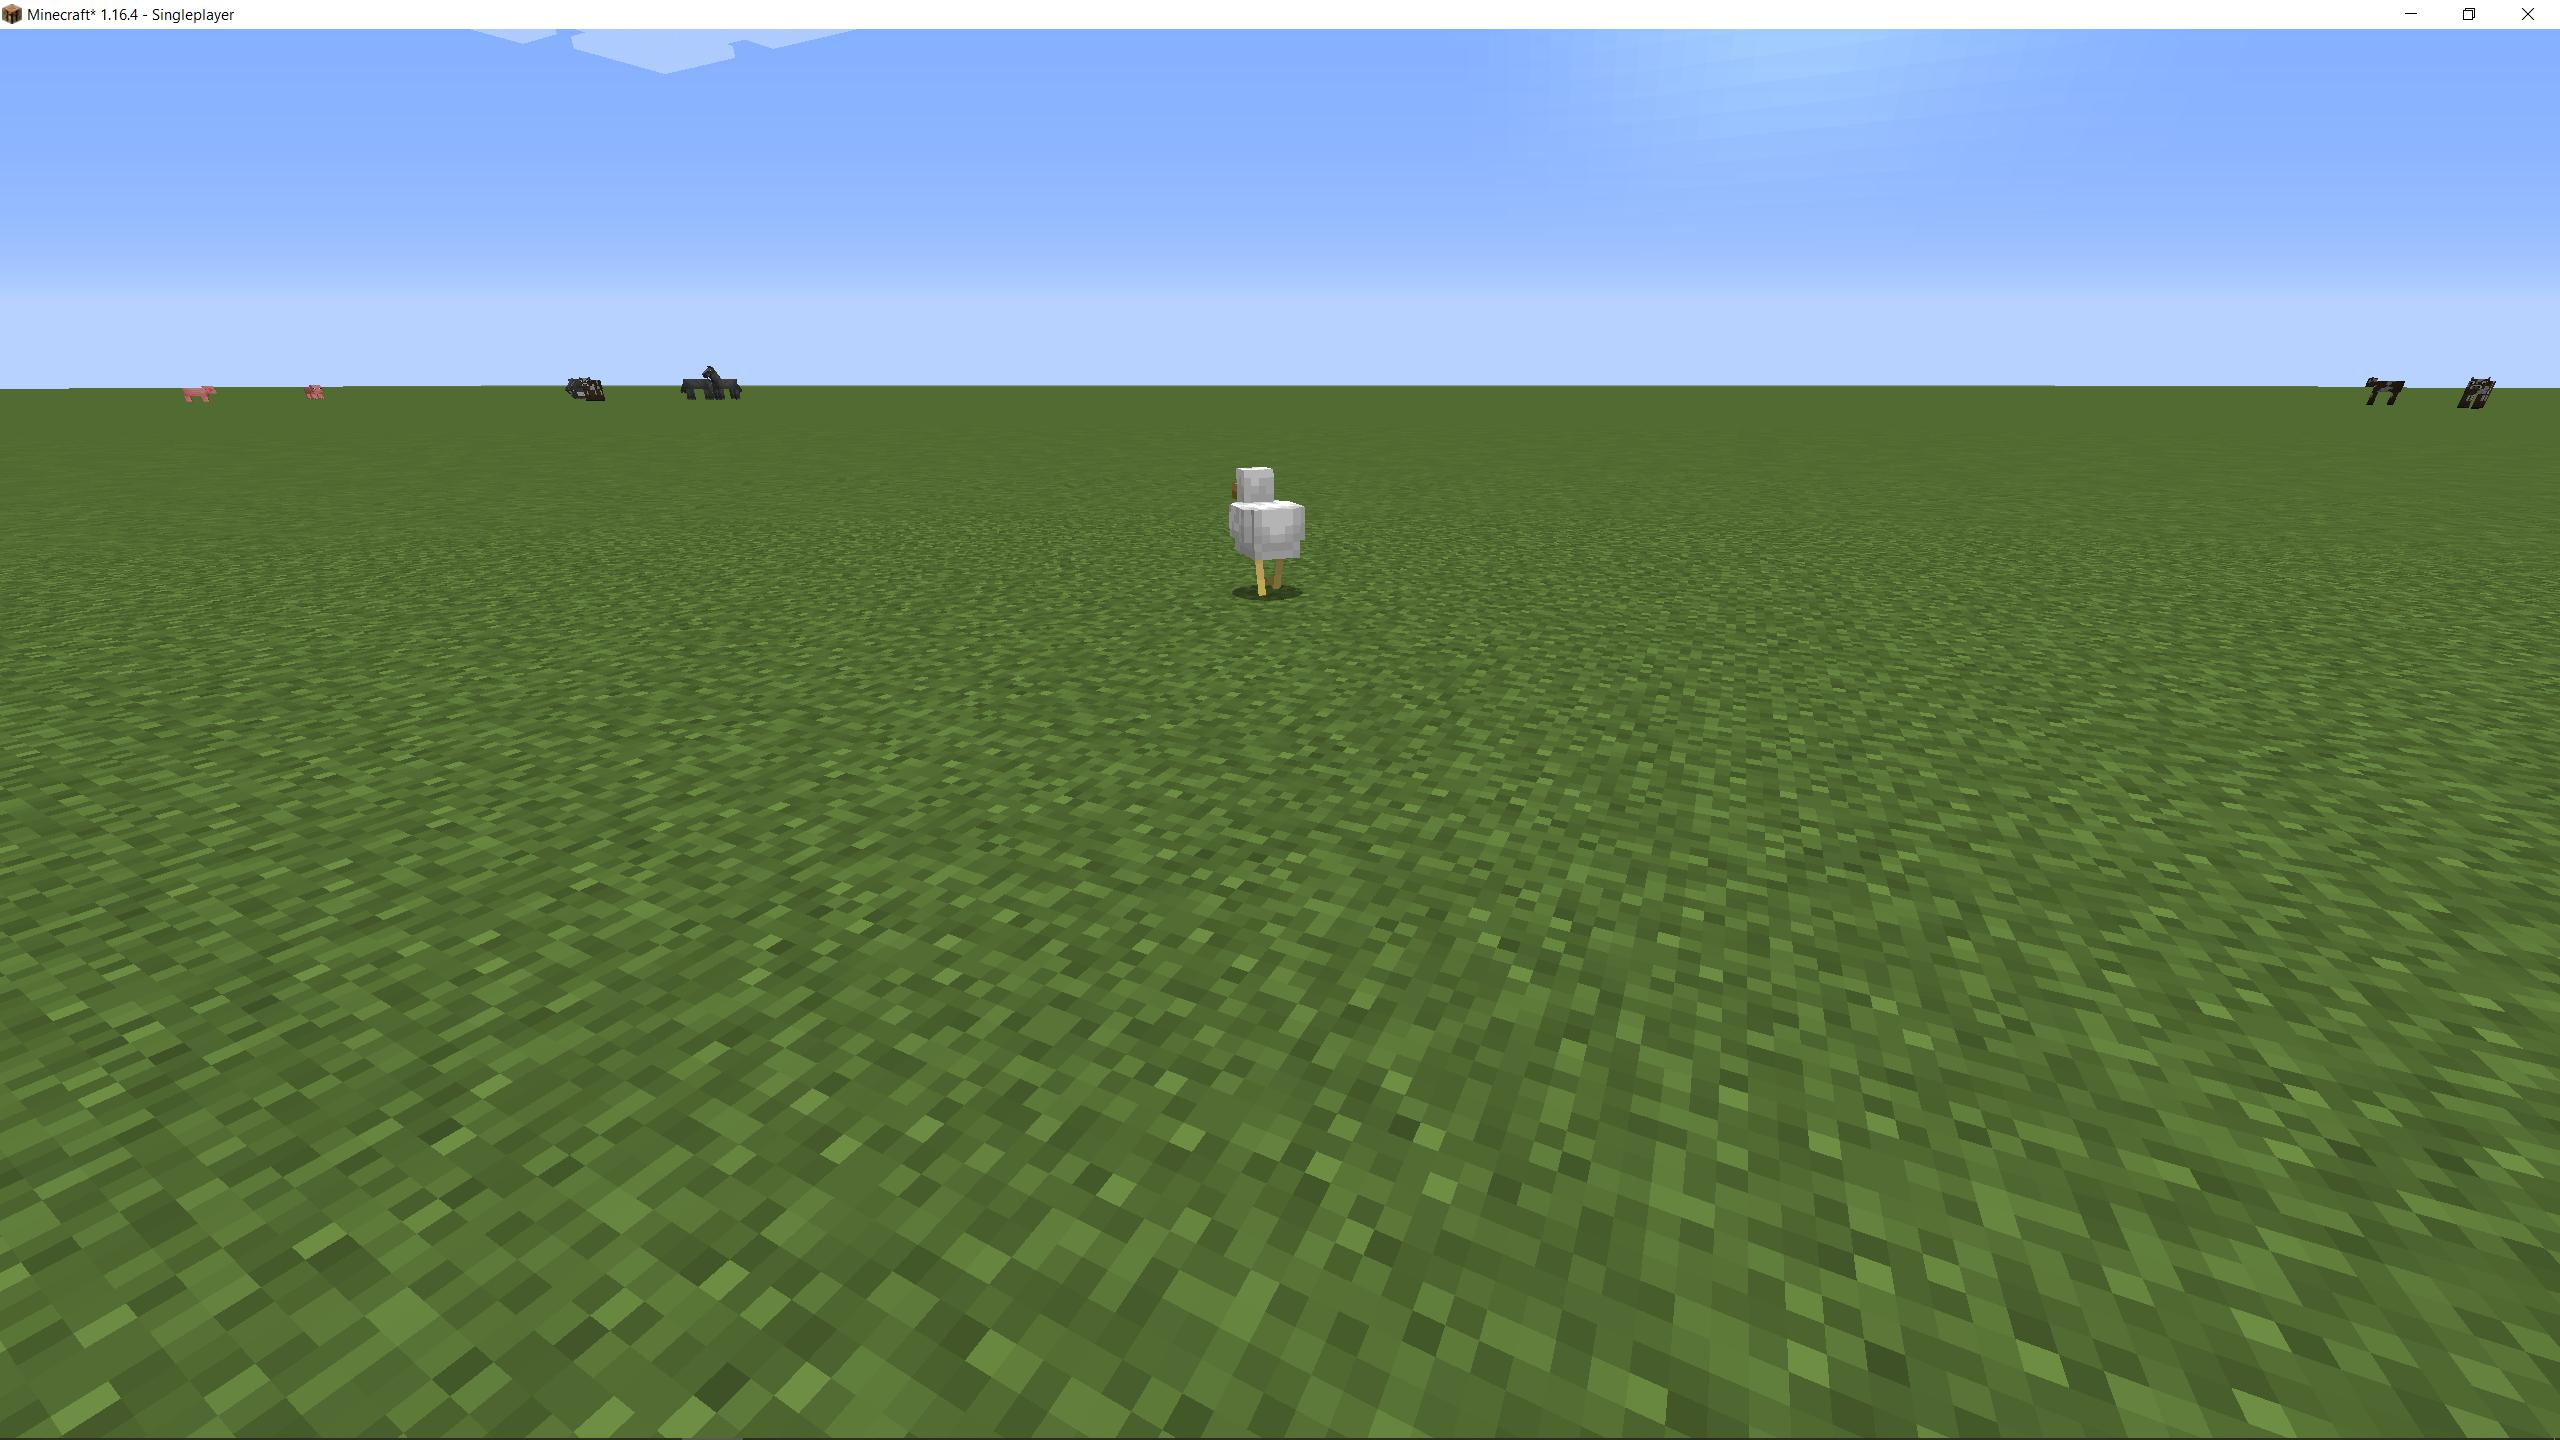chicken: (1218, 464, 1306, 605)
